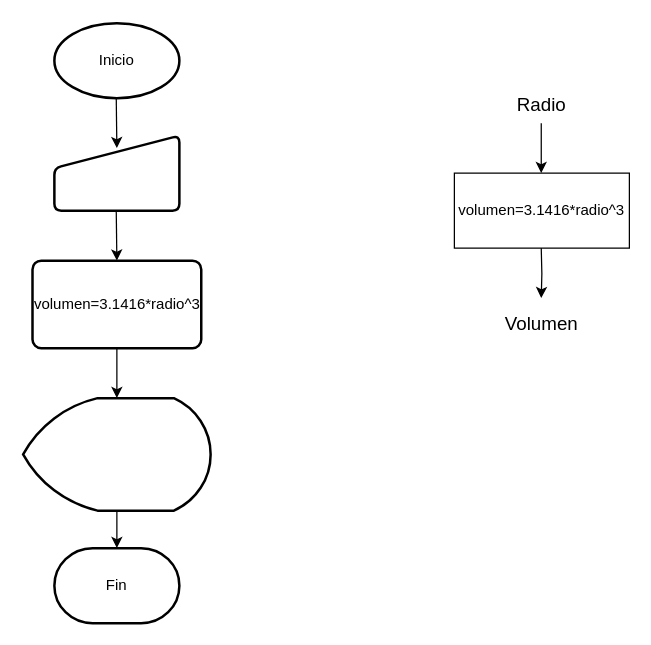
This 651x645 diagram has some shape labels left out. The centre of each missing label's shape, as x and y in pixels:
Imprimir "El volumen de la esfera es" + volumen: point (116, 453)
leer (radio): point (116, 172)
